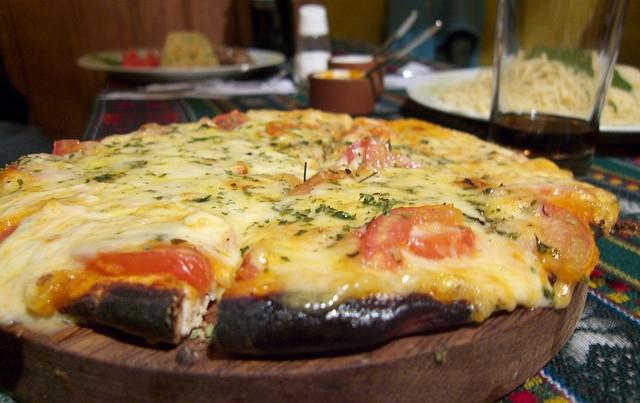tomato: (82, 243, 214, 304), (360, 203, 476, 270), (528, 200, 600, 280), (538, 185, 600, 226), (288, 170, 355, 196), (346, 136, 390, 164), (265, 121, 319, 138), (212, 109, 248, 131), (52, 139, 81, 157), (0, 162, 20, 180), (75, 140, 104, 152), (0, 226, 18, 243)
